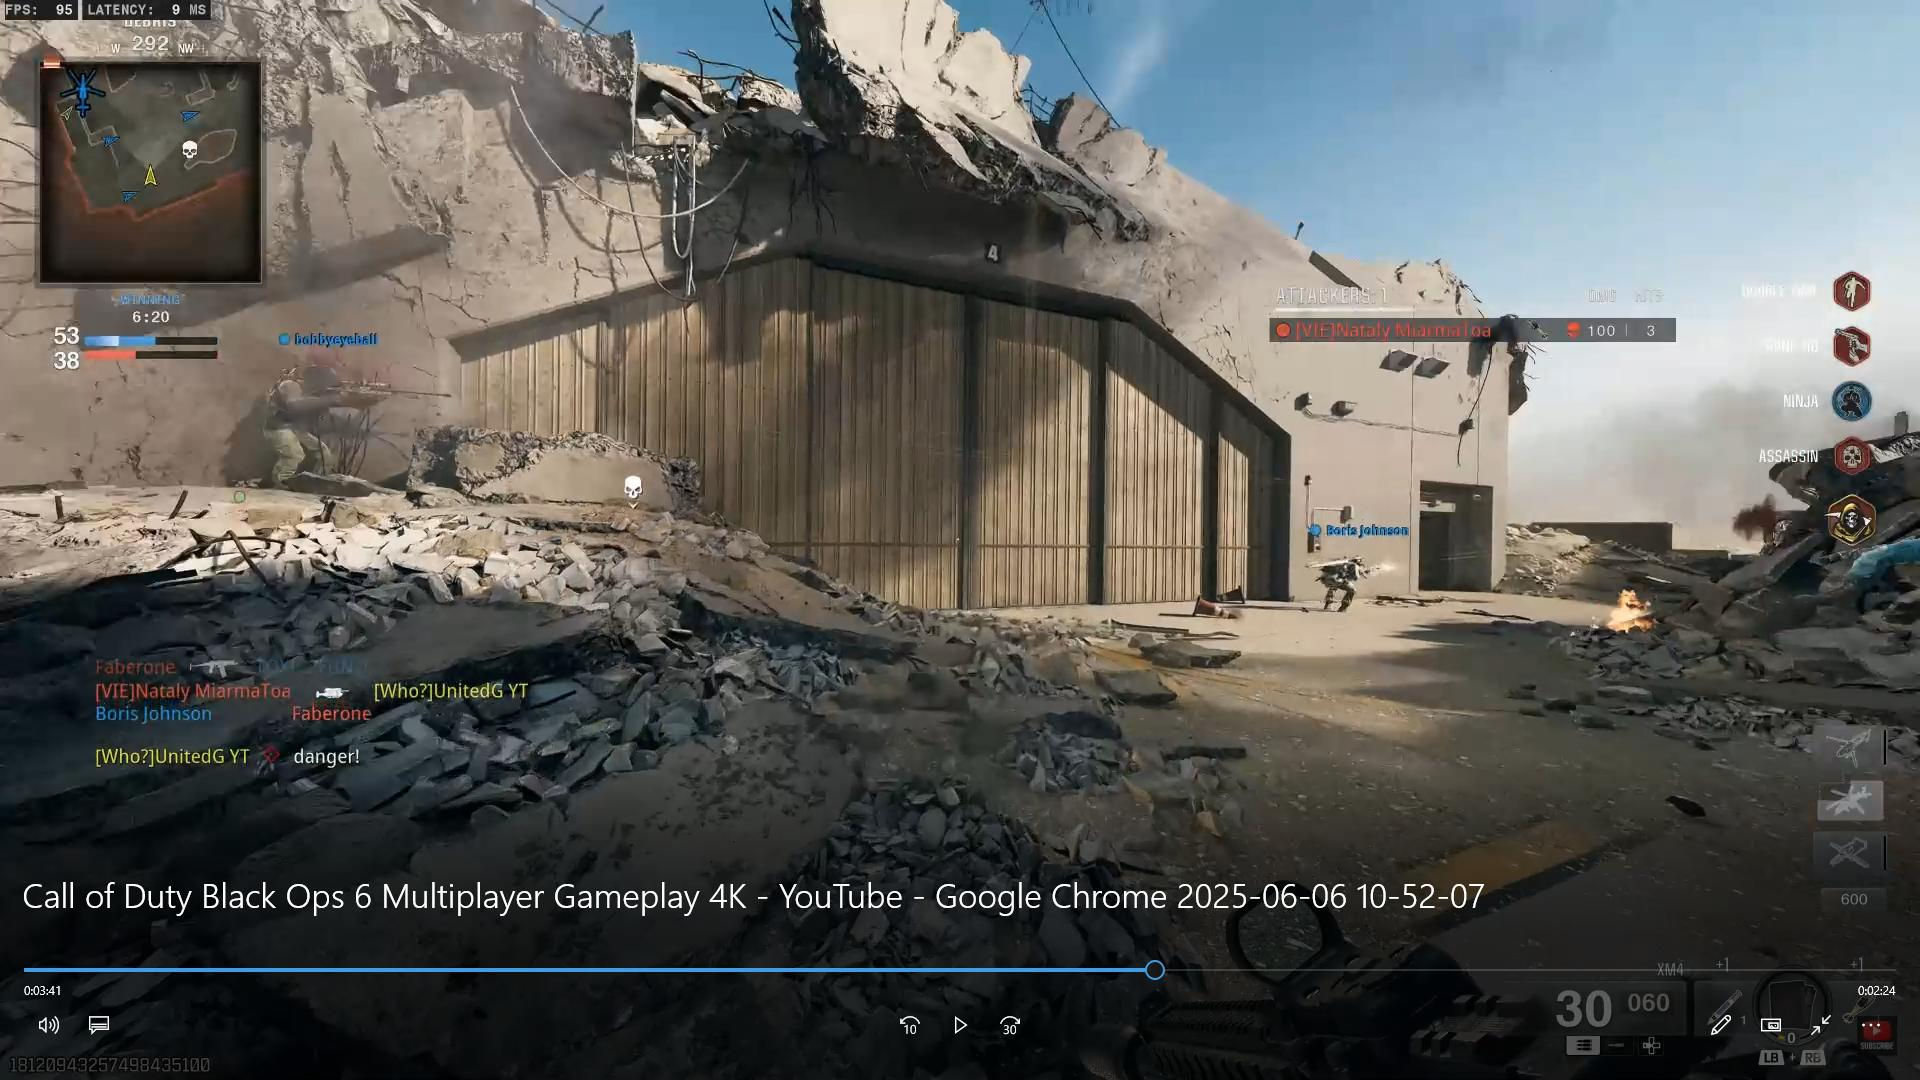Enemy: (269, 352, 397, 501), (1312, 542, 1374, 617)
